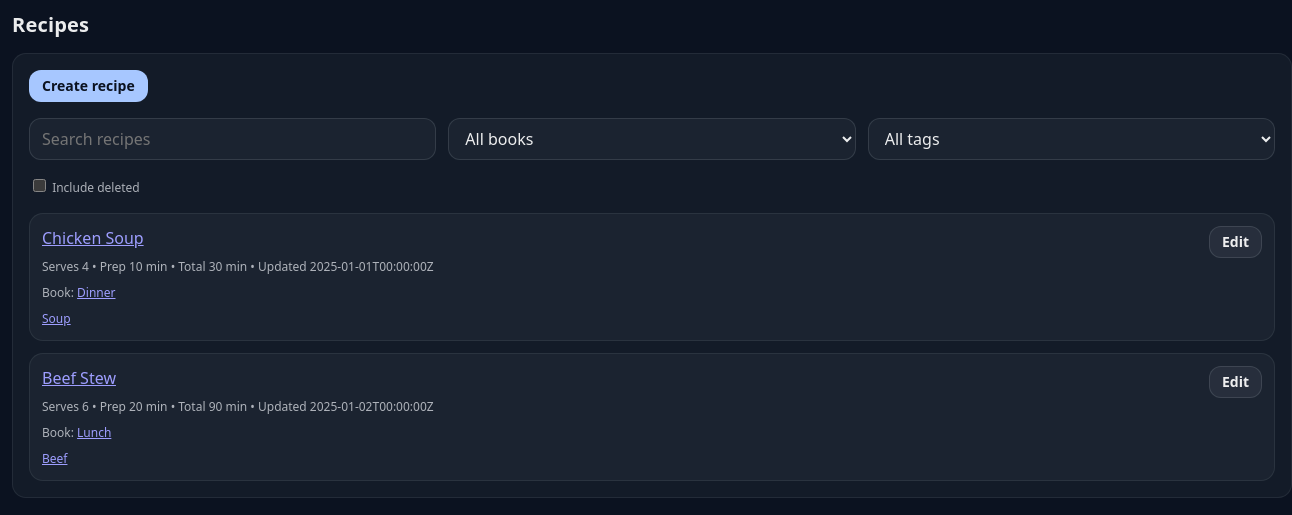
Scenario: RecipeListPage › renders list items and supports search
Expected: the link "Create recipe" is shown, [29,70,148,102]
Expected: the link "Beef Stew" is shown, [42,366,116,390]
Type "chicken" into the field with placeholder "Search recipes".
click(233, 139); type("chicken")  # box [29,118,436,160]
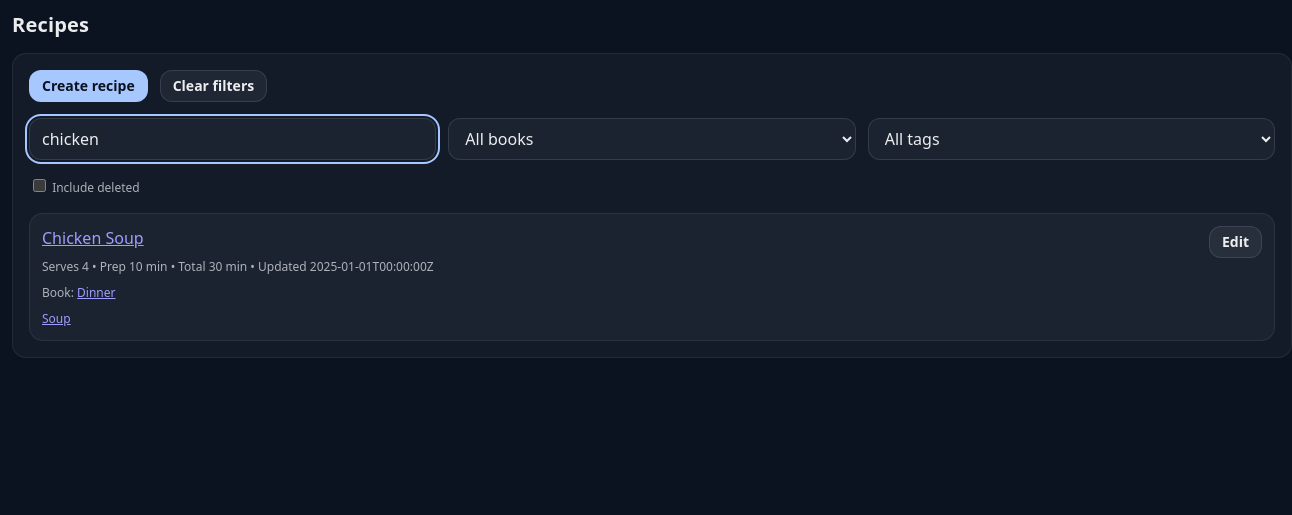
Expected: the link "Chicken Soup" is shown, [42,226,144,250]
Expected: the link "Beef Stew" is gone
